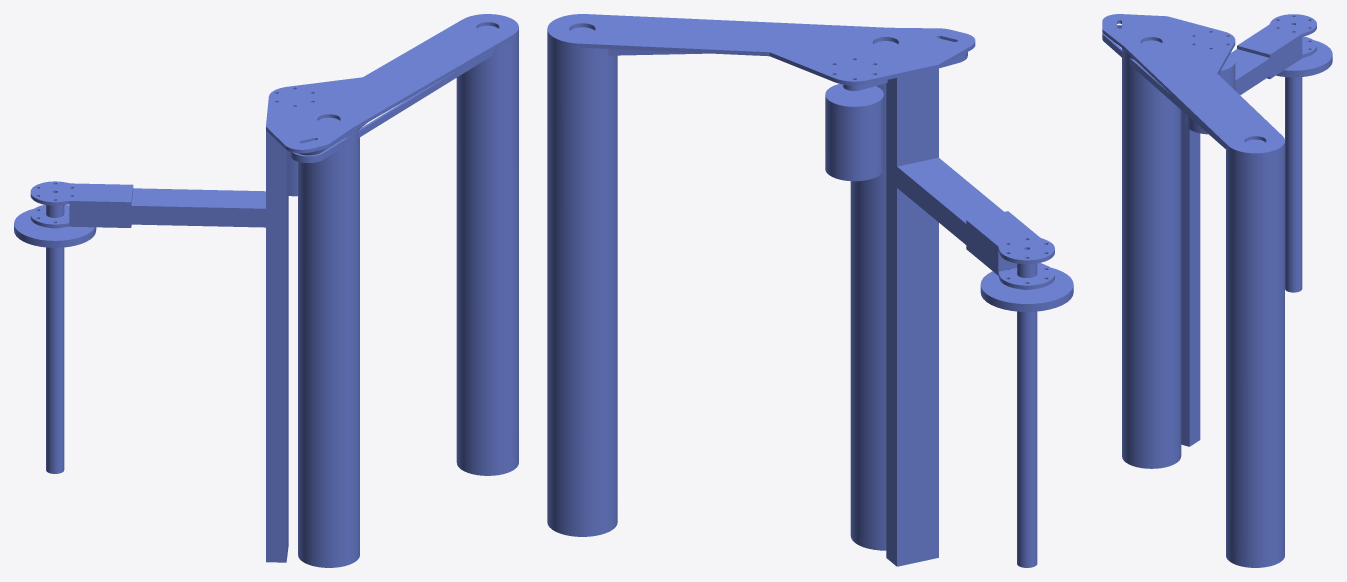
The picture shows the model from 3 angles, left to right: view 1: azimuth 30°, elevation 25°; view 2: azimuth 150°, elevation 25°; view 3: azimuth 270°, elevation 25°; orthographic projection. The views are drawn at different scales.
Parts seen in each view (by area): view 1: NAUO1; view 2: NAUO1; view 3: NAUO1.
Boxes of the visible parts, left/top/right/bottom form: NAUO1: left=14, top=14, right=518, bottom=567; NAUO1: left=547, top=14, right=1073, bottom=567; NAUO1: left=1102, top=14, right=1332, bottom=567.
Bounding box in the file's own units: 0.6723 × 0.589 × 0.2967.
